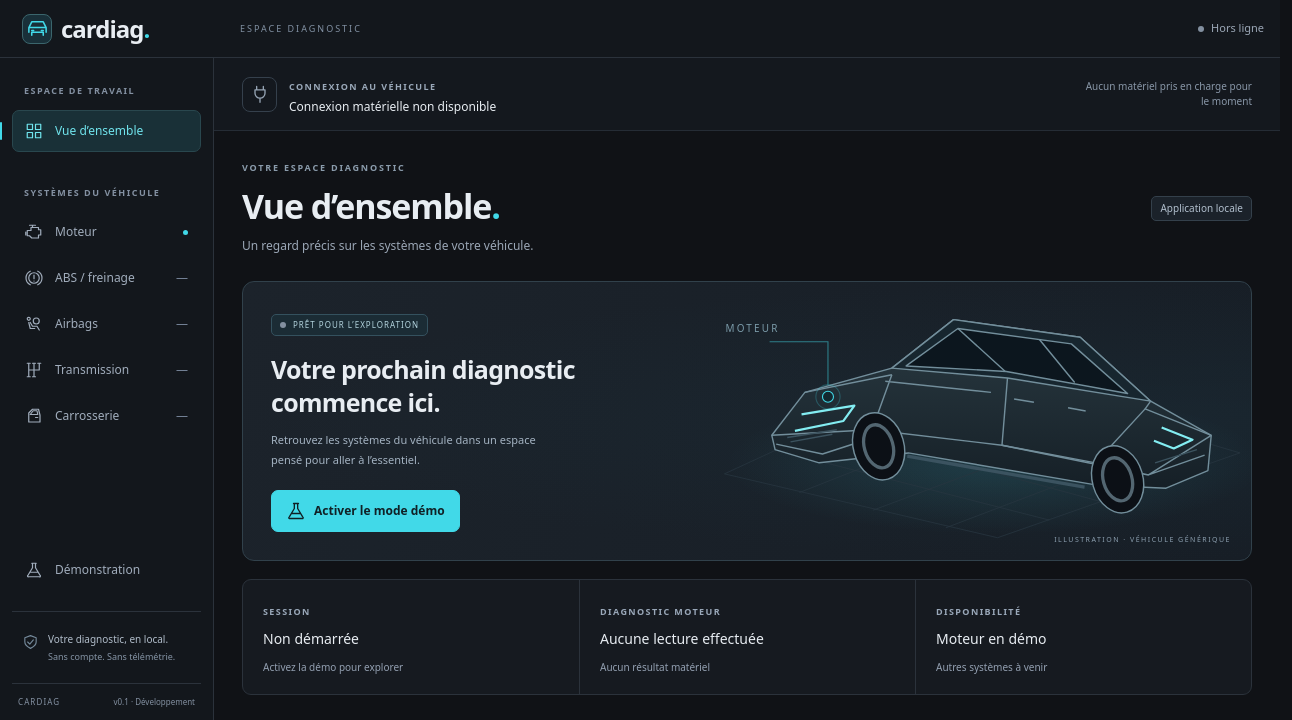
Test: parcours de diagnostic simulé › ignore une lecture obsolète après Déconnecter (rejet : false)
The width and height of the screenshot is (1292, 720).
Click the button "Activer le mode démo": (365, 511) [271, 490, 460, 532]
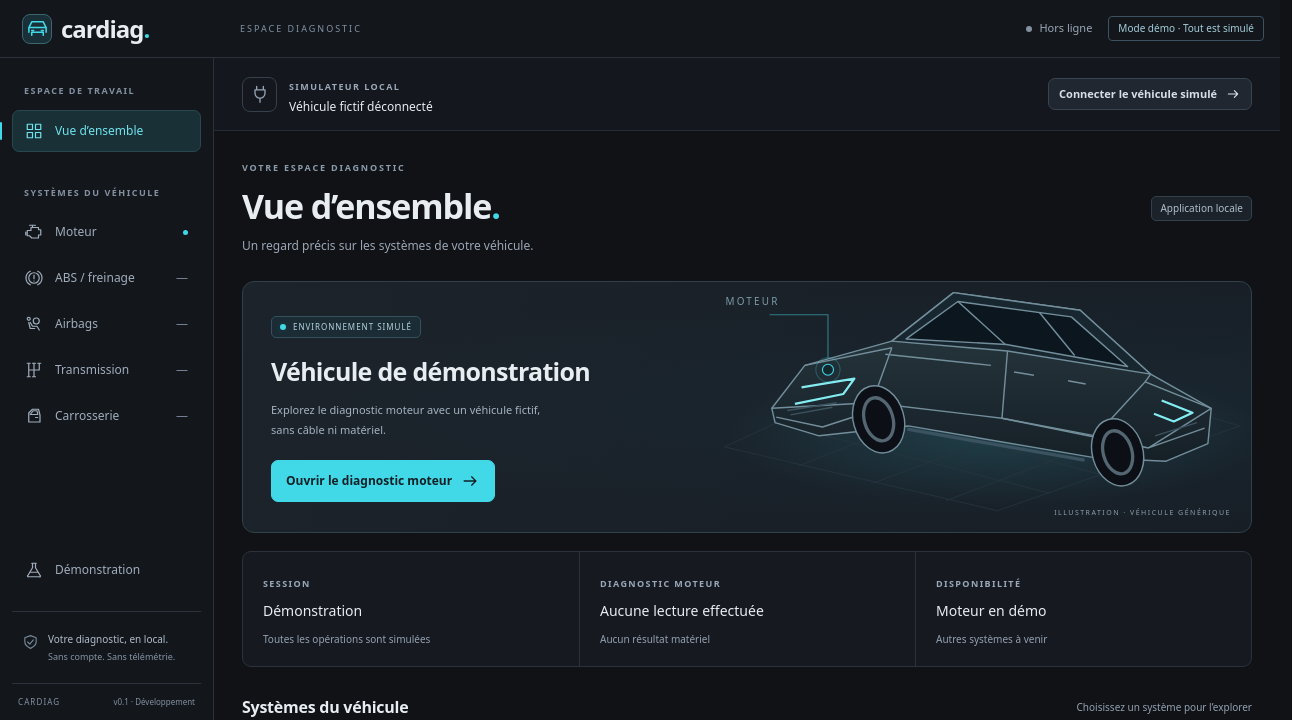
Check: the button "Connecter le véhicule simulé" is enabled
Click the button "Connecter le véhicule simulé": (1150, 94) [1048, 78, 1252, 110]
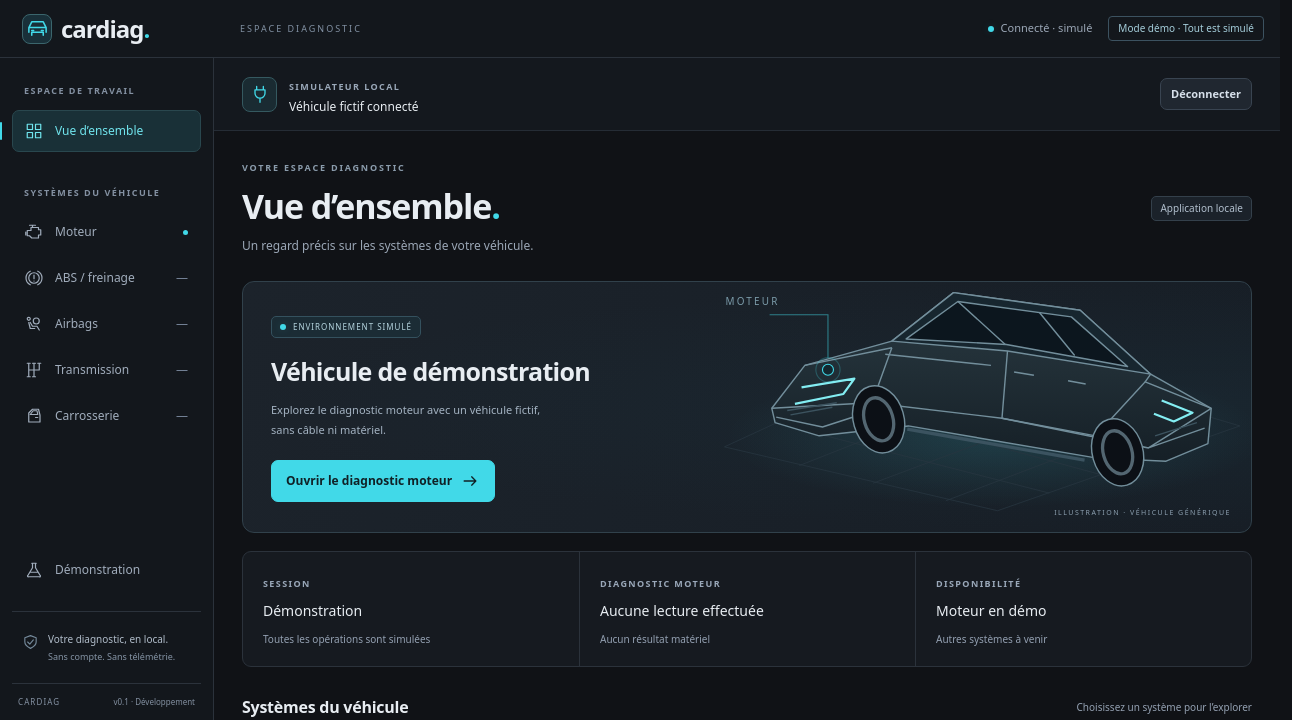
Check: the text "Véhicule fictif connecté" is shown, box [289, 98, 418, 116]
Click the button "Moteur": (106, 232) [12, 211, 201, 253]
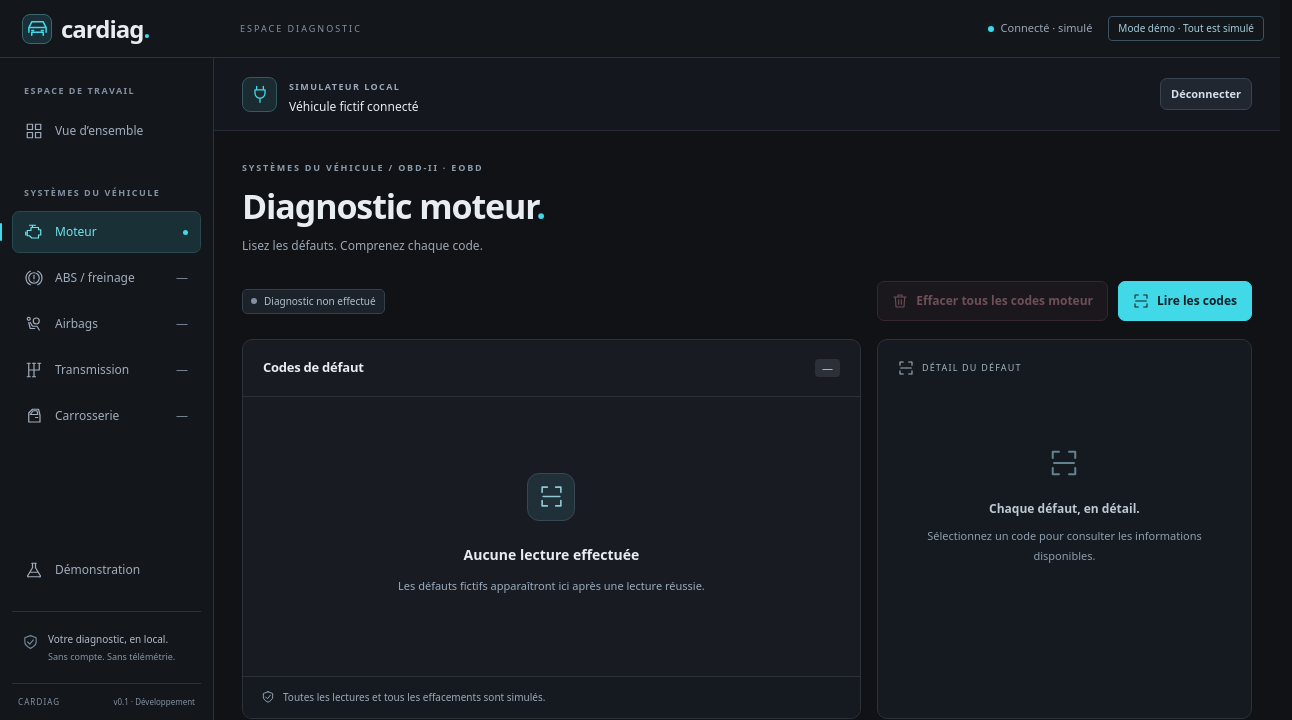
Click the button "Lire les codes": (1185, 301) [1118, 281, 1252, 321]
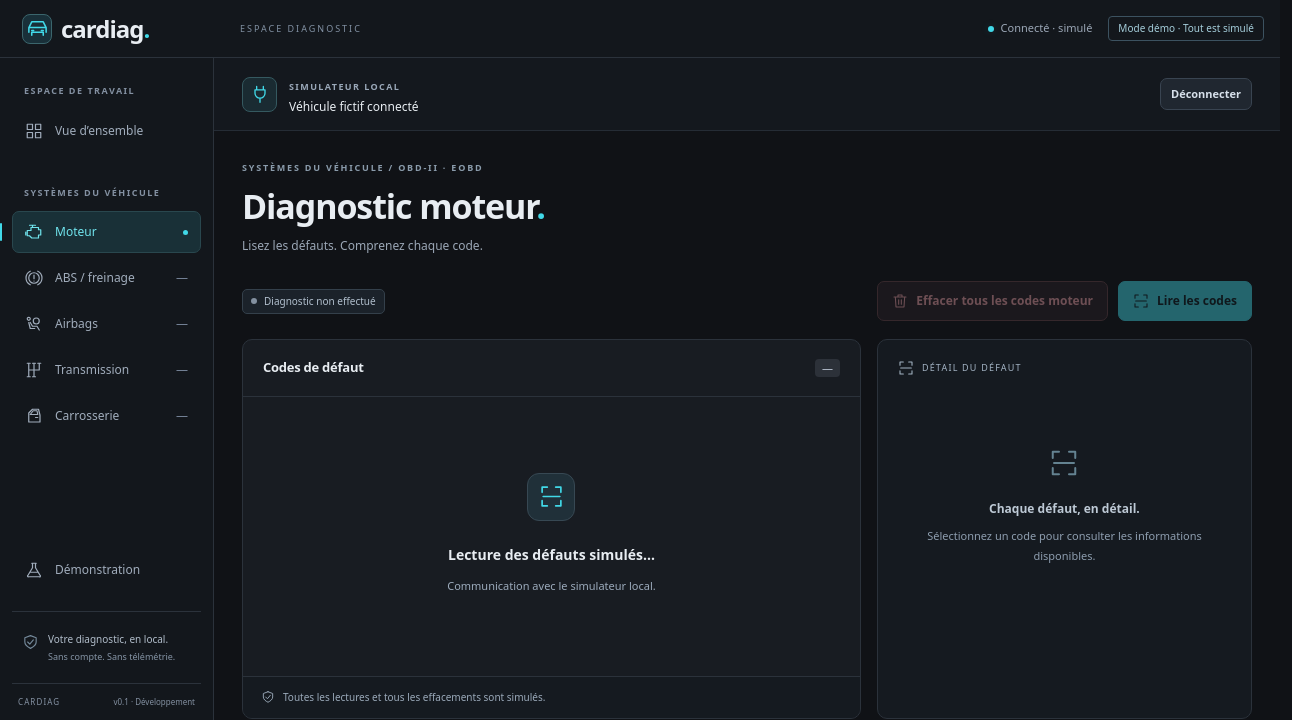
Check: the button "Déconnecter" is enabled
Click the button "Déconnecter": (1206, 94) [1160, 78, 1252, 110]
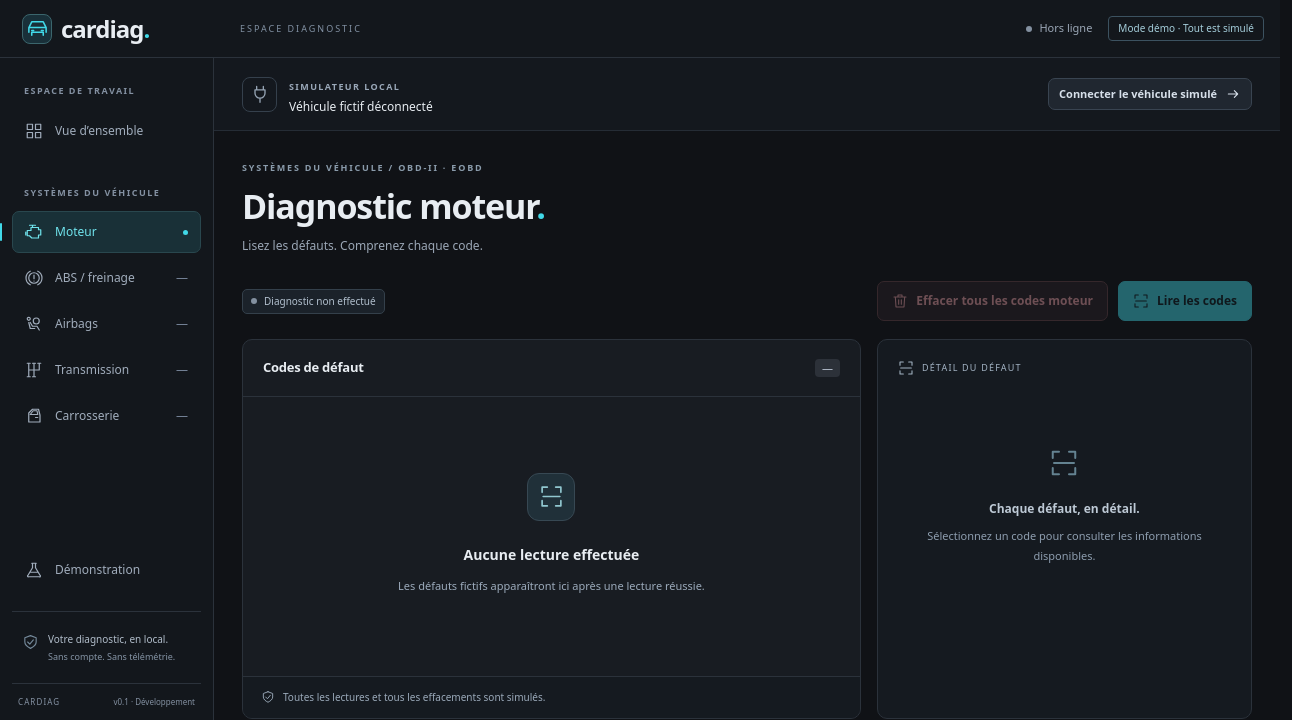
Check: the button "Connecter le véhicule simulé" is enabled, box [1048, 78, 1252, 110]
Check: the text "Véhicule fictif connecté" is gone
Check: the heading "Aucune lecture effectuée" is shown, box [464, 543, 639, 566]
